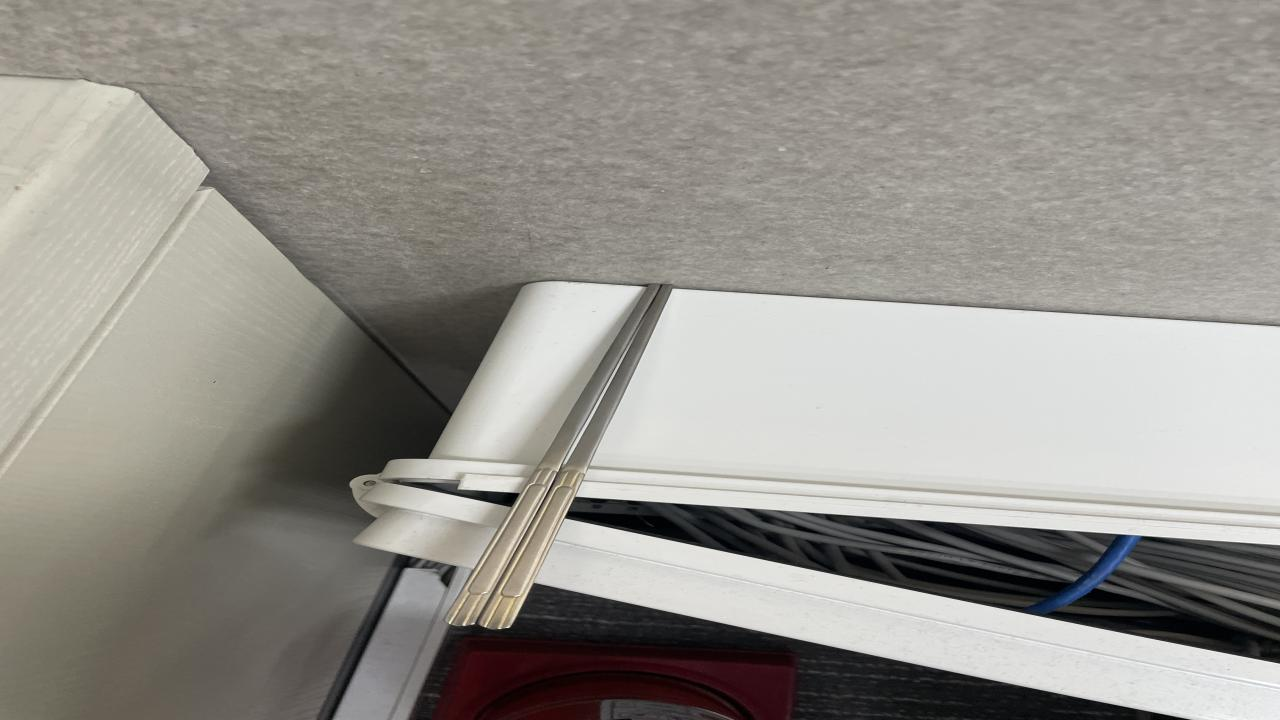chopstick: (442, 280, 678, 627)
